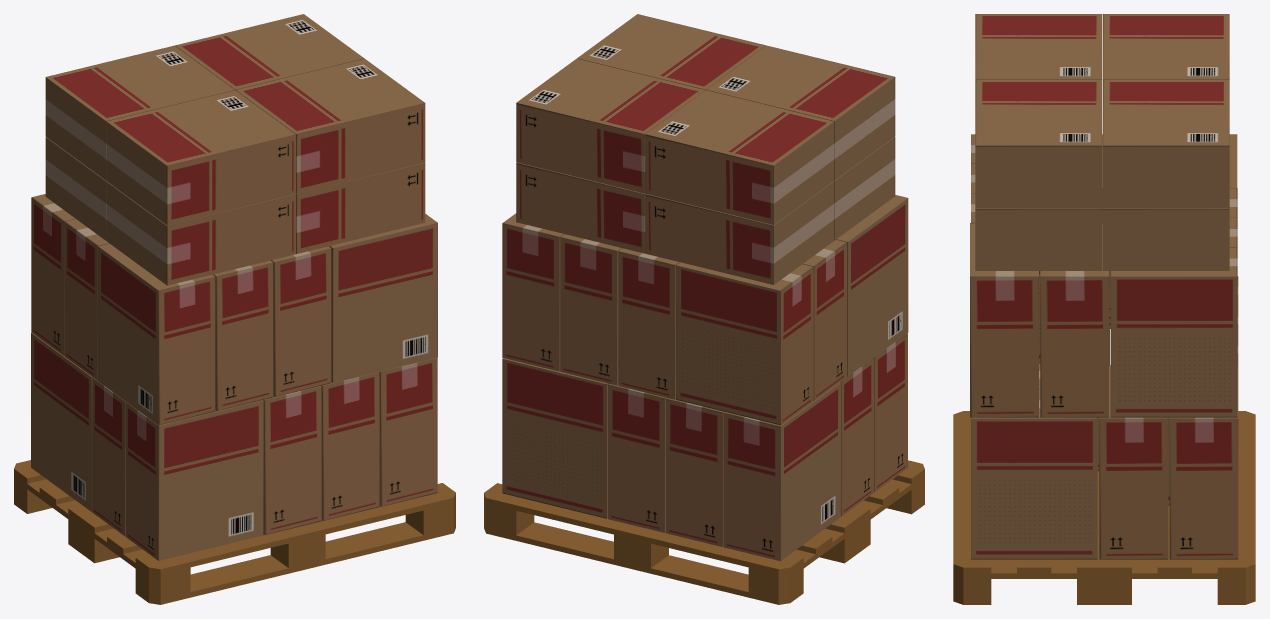
The picture shows the model from 3 angles, left to right: view 1: azimuth 30°, elevation 25°; view 2: azimuth 150°, elevation 25°; view 3: azimuth 270°, elevation 25°; orthographic projection. The views are drawn at different scales.
Parts seen in each view (by area): view 1: c28, c6, Palette_pallet_0, c18, c26, c16, c24, c27, c3, c20, c19, c8 (+8 smaller); view 2: c12, c27, Palette_pallet_0, c3, c25, c2, c23, c28, c18, c15, c14, c13 (+8 smaller); view 3: c15, c10, c26, c25, Palette_pallet_0, c16, c17, c1, c2, c28, c27, c22 (+2 smaller).
Boxes of the visible parts, left/top/right/bottom form: c28: left=106, top=90, right=295, bottom=225; c6: left=125, top=400, right=263, bottom=560; Palette_pallet_0: left=14, top=460, right=455, bottom=604; c18: left=98, top=243, right=215, bottom=425; c26: left=236, top=58, right=425, bottom=193; c16: left=329, top=214, right=437, bottom=382; c24: left=106, top=181, right=295, bottom=285; c27: left=45, top=45, right=234, bottom=180; c3: left=31, top=332, right=92, bottom=511; c20: left=271, top=246, right=331, bottom=396; c19: left=213, top=260, right=273, bottom=411; c8: left=263, top=386, right=321, bottom=534; c12: left=676, top=262, right=813, bottom=425; c27: left=645, top=90, right=834, bottom=224; Palette_pallet_0: left=484, top=460, right=924, bottom=604; c3: left=723, top=382, right=840, bottom=561; c25: left=516, top=58, right=704, bottom=193; c2: left=502, top=358, right=608, bottom=518; c23: left=645, top=181, right=834, bottom=284; c28: left=706, top=45, right=895, bottom=180; c18: left=836, top=195, right=908, bottom=376; c15: left=502, top=213, right=564, bottom=371; c14: left=560, top=234, right=622, bottom=385; c13: left=618, top=248, right=679, bottom=399; c15: left=1110, top=247, right=1237, bottom=417; c10: left=971, top=389, right=1097, bottom=559; c26: left=975, top=80, right=1102, bottom=207; c25: left=1103, top=80, right=1229, bottom=207; Palette_pallet_0: left=953, top=411, right=1255, bottom=604; c16: left=970, top=223, right=1038, bottom=417; c17: left=1040, top=223, right=1108, bottom=417; c1: left=1099, top=365, right=1168, bottom=559; c2: left=1169, top=365, right=1238, bottom=559; c28: left=975, top=14, right=1102, bottom=79; c27: left=1103, top=14, right=1229, bottom=79; c22: left=975, top=208, right=1102, bottom=270.
Bounding box in the file's own units: 13.5 × 17.94 × 11.
2 materials, 1 textured.
